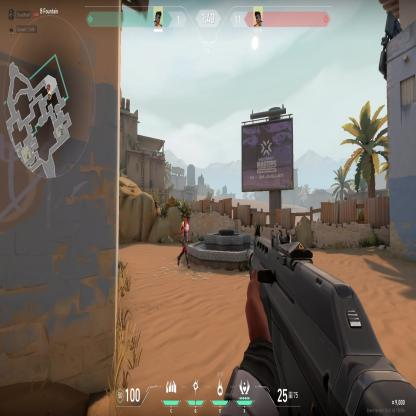enemy: (176, 213, 191, 270)
